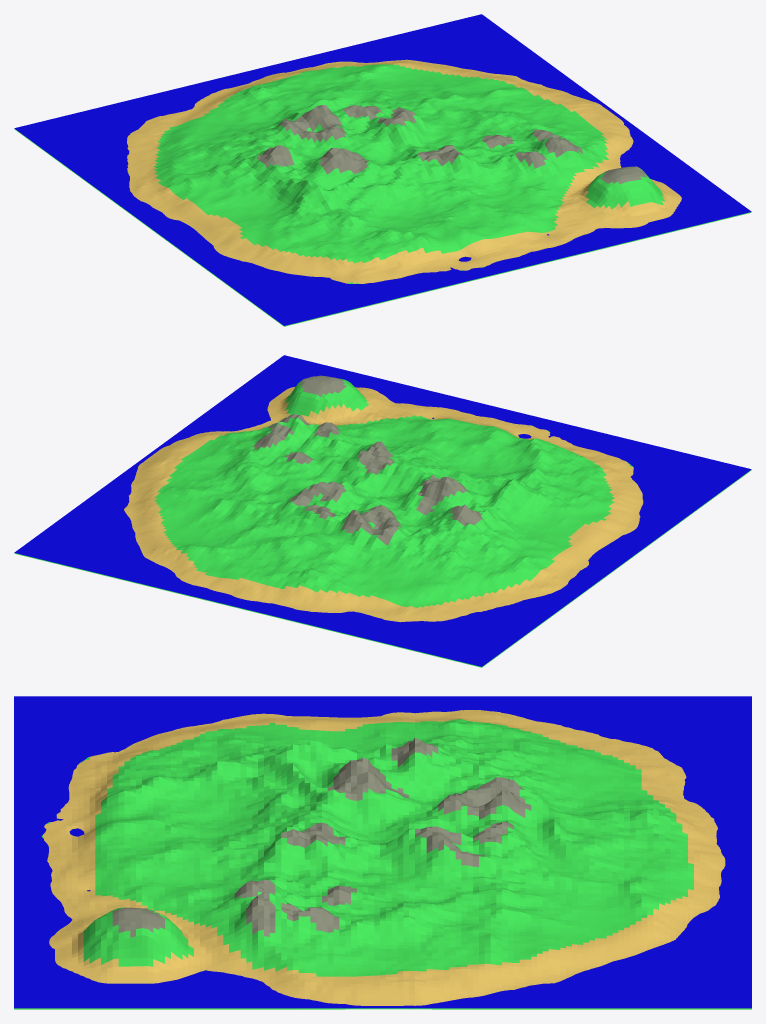
The model's file is landscape.glb.
3 views of the same model, one above another, from view 1: azimuth 30°, elevation 25°; view 2: azimuth 150°, elevation 25°; view 3: azimuth 270°, elevation 25° (orthographic). The views are drawn at different scales.
Visible parts, largest first — view 1: Landscape.003, Landscape_plane.001; view 2: Landscape.003, Landscape_plane.001; view 3: Landscape.003, Landscape_plane.001.
Part boxes in pixels (x1=…): Landscape.003: x1=14, y1=59, x2=751, y2=326; Landscape_plane.001: x1=14, y1=14, x2=751, y2=325; Landscape.003: x1=14, y1=375, x2=751, y2=667; Landscape_plane.001: x1=14, y1=355, x2=751, y2=666; Landscape.003: x1=14, y1=710, x2=751, y2=1009; Landscape_plane.001: x1=14, y1=696, x2=751, y2=1008.
Bounding box in the file's own units: 6 × 0.5205 × 6.
